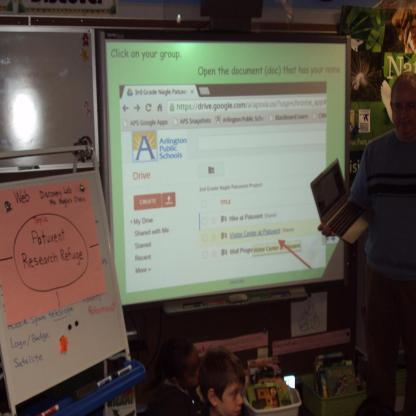board: (310, 157, 366, 243)
